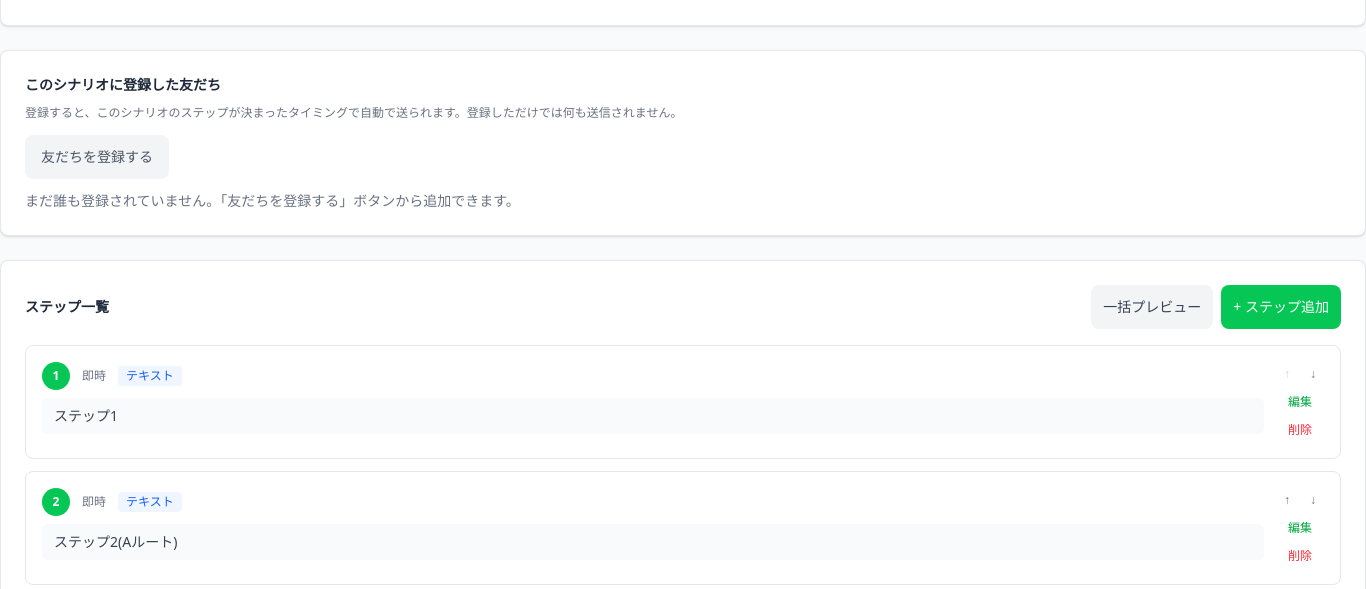
Test: contains 条件の分岐欄 › tag_name_contains の入力が空なら保存しない
Click the button "編集" in the row of "ステップ1" at (1300,402), box [1276,390,1324,414]
(page scrolled)
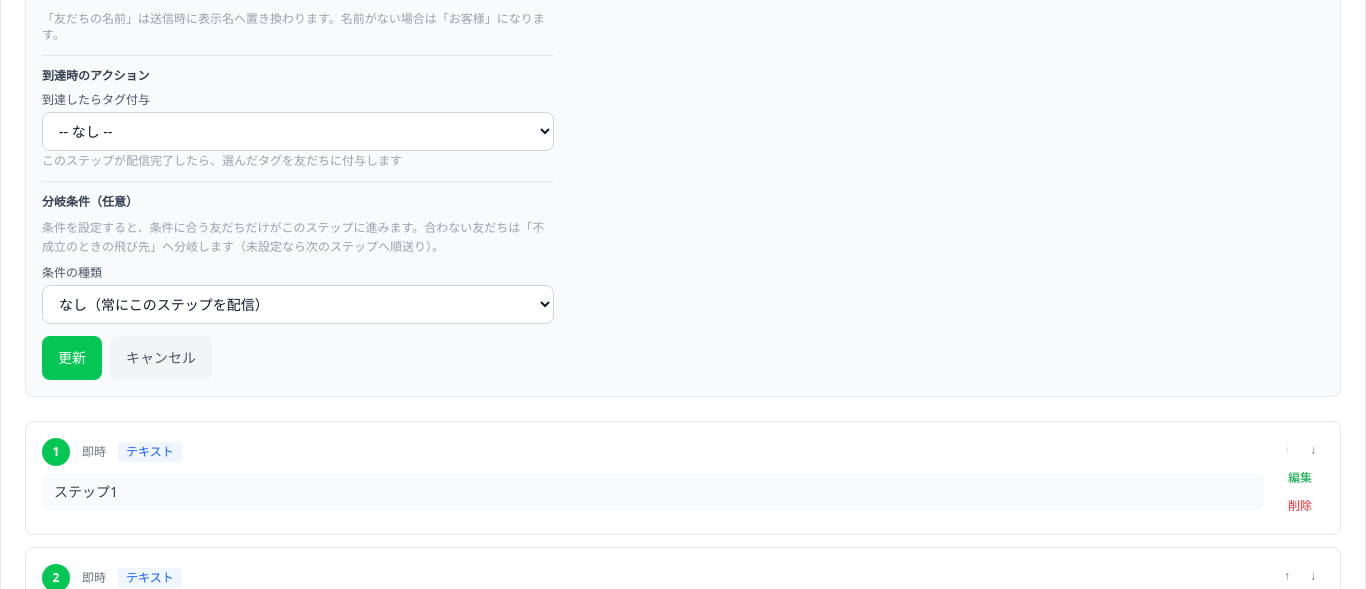
Select "タグ名に次の文字を含む" in the dropdown named "分岐条件の種類" at (298,304), box [42,284,554,324]
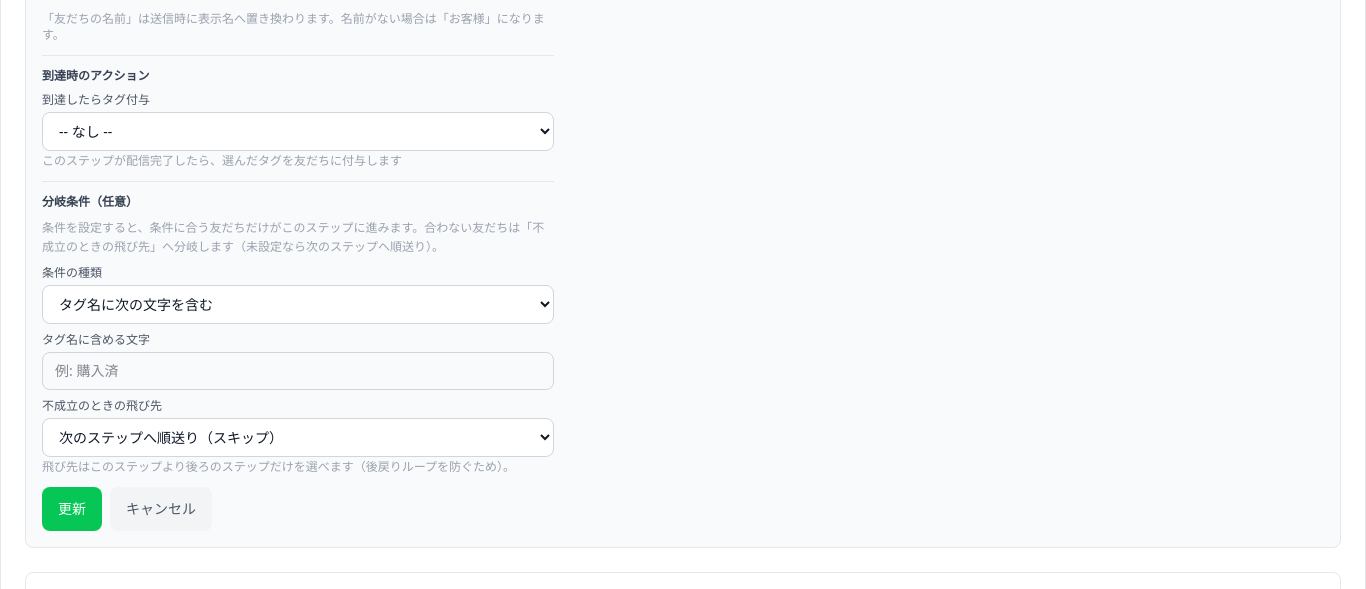
Click the button "更新" at (72,508), box [42,486,102,530]
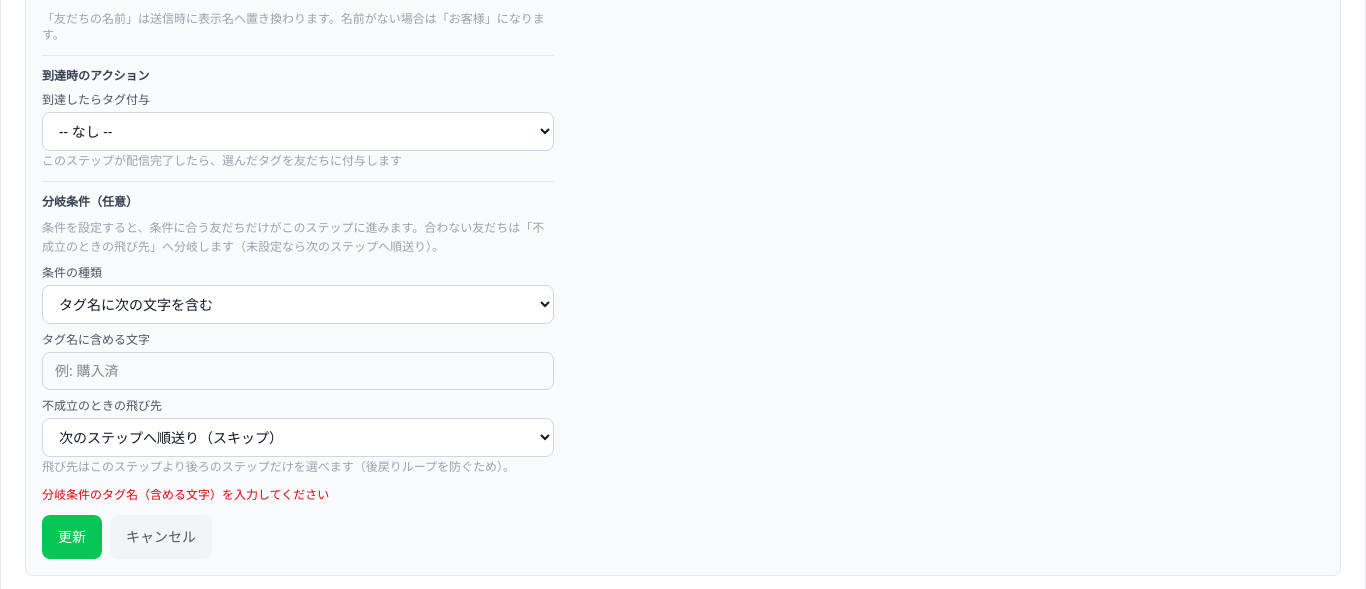
expect the text "分岐条件のタグ名（含める文字）を入力してください" is shown: met, box [42,486,329,502]
